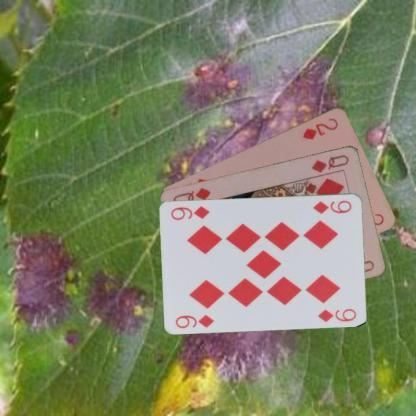2d: (300, 115, 340, 140)
9d: (310, 198, 353, 216), (174, 312, 216, 329)
Qd: (309, 152, 350, 174)
